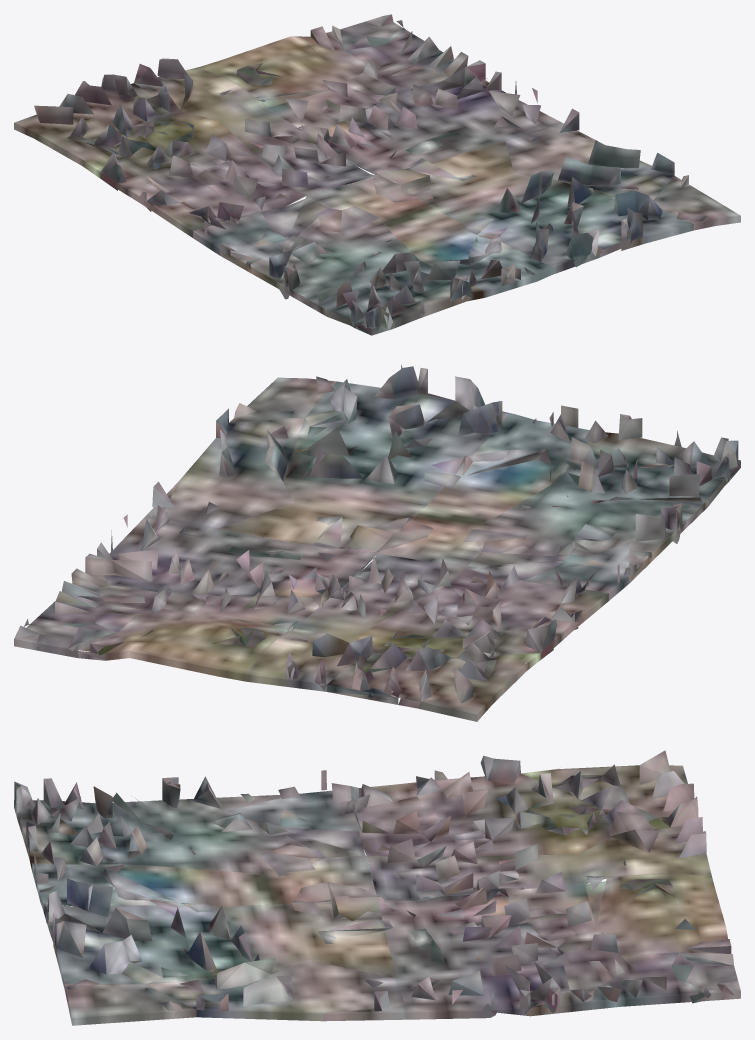
3 renders of one model, top to bottom at view 1: azimuth 30°, elevation 25°; view 2: azimuth 150°, elevation 25°; view 3: azimuth 270°, elevation 25°, orthographic. The views are drawn at different scales.
Parts seen in each view (by area): view 1: Mesh_0; view 2: Mesh_0; view 3: Mesh_0.
Part boxes in pixels (x1,y1,x2,y2): Mesh_0: [14, 14, 740, 335]; Mesh_0: [14, 364, 740, 721]; Mesh_0: [14, 750, 740, 1025].
Bounding box in the file's own units: 1064 × 114 × 1318.
Materials: 1 (1 with a texture image).
